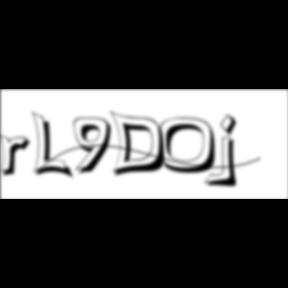9: (74, 117, 118, 177)
D: (110, 110, 172, 180)
L: (32, 110, 76, 182)
O: (160, 117, 224, 176)
j: (218, 113, 244, 191)
r: (1, 134, 37, 180)
